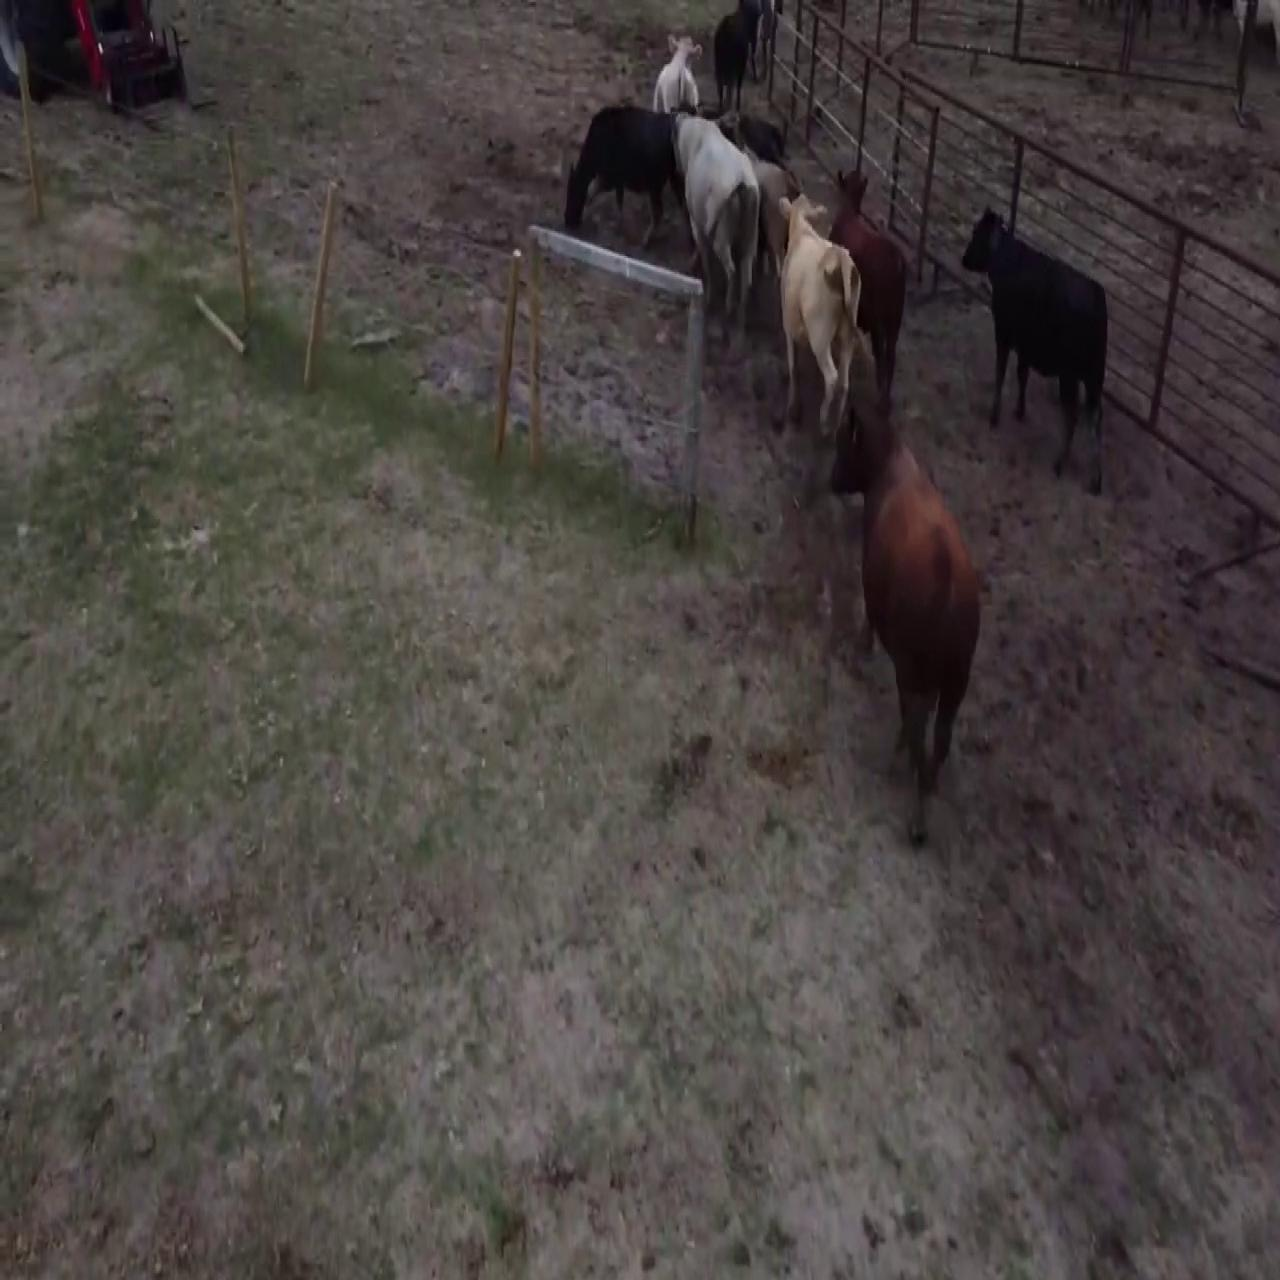cow: (823, 352, 986, 875), (958, 212, 1120, 484), (664, 107, 764, 330), (771, 188, 861, 426), (570, 103, 689, 249), (639, 12, 703, 126), (1224, 0, 1280, 124), (716, 4, 758, 112)
